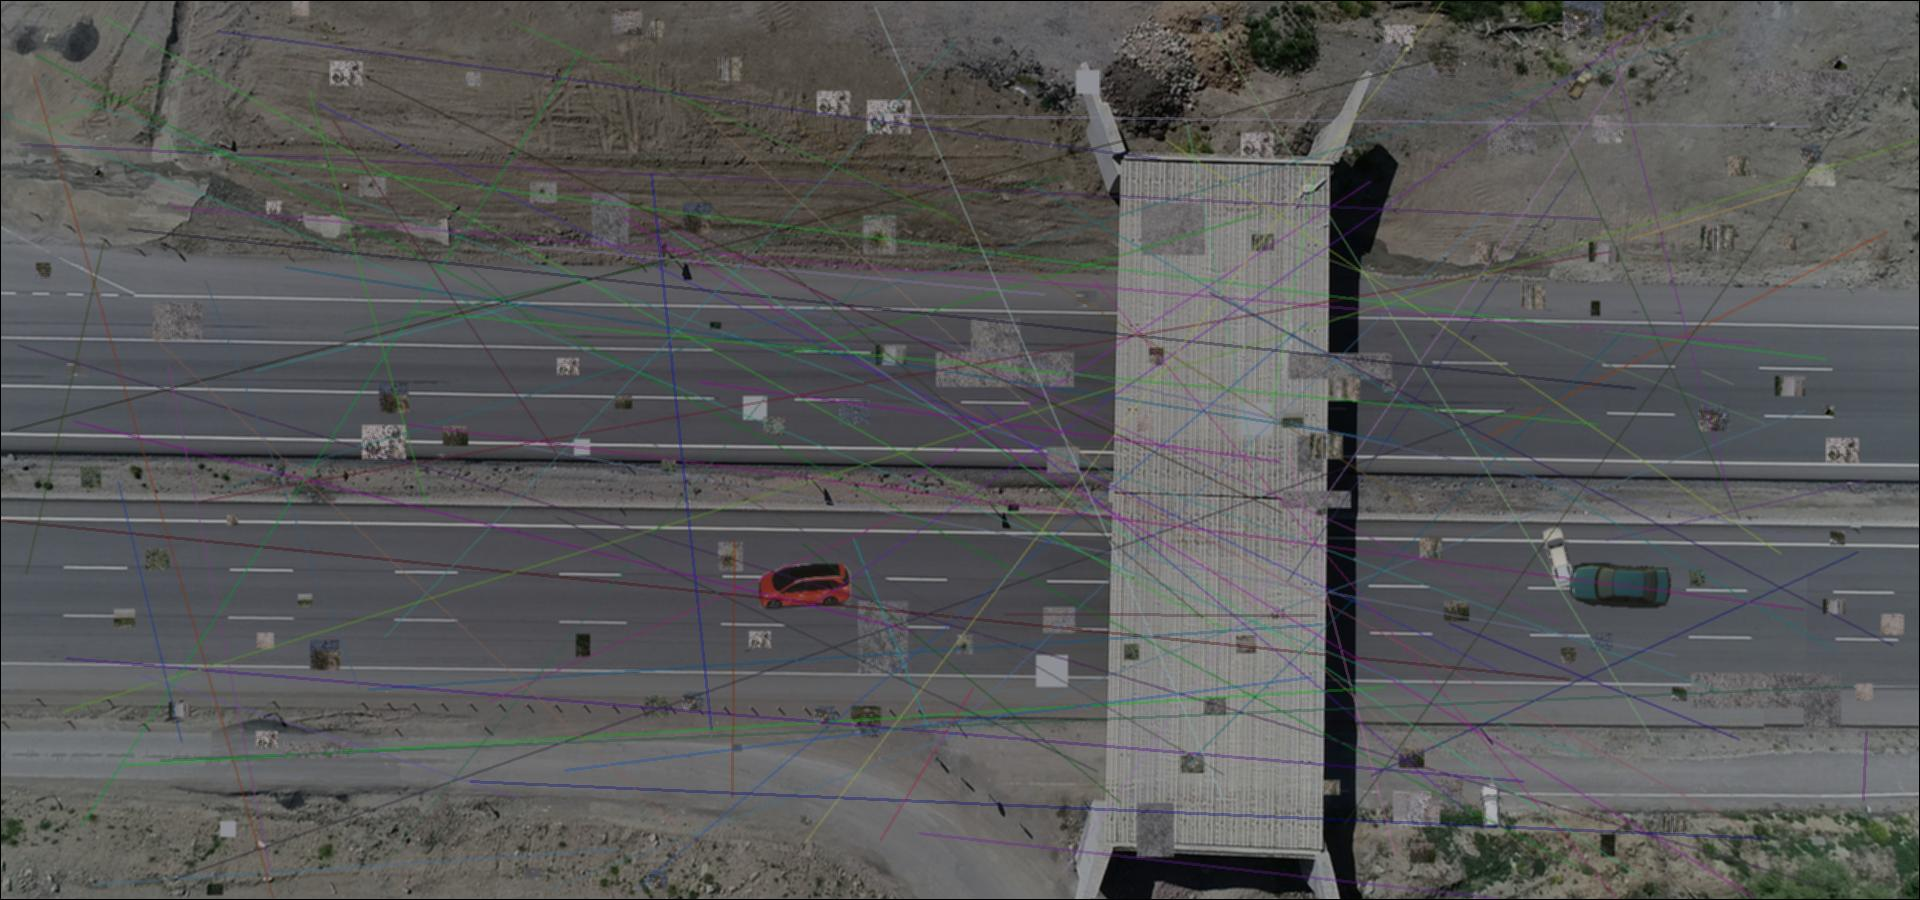arac: (1570, 563, 1676, 609), (759, 564, 851, 609), (1540, 524, 1580, 588), (1478, 782, 1502, 829), (1565, 70, 1596, 100)
